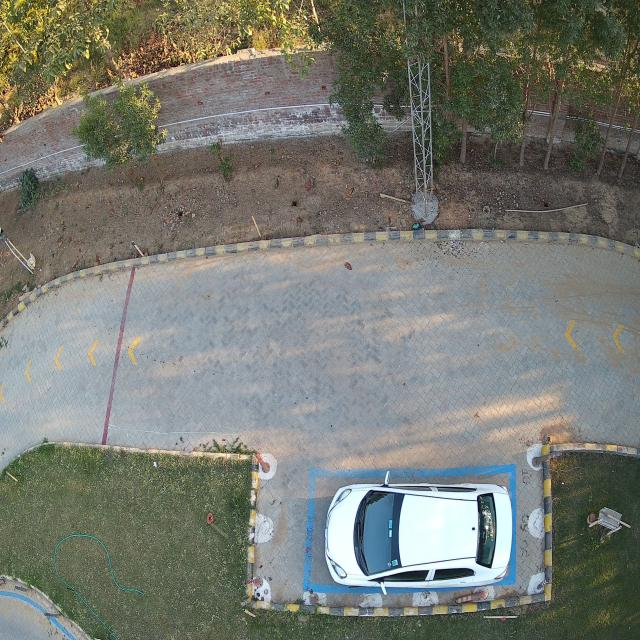car: (325, 473, 512, 593)
